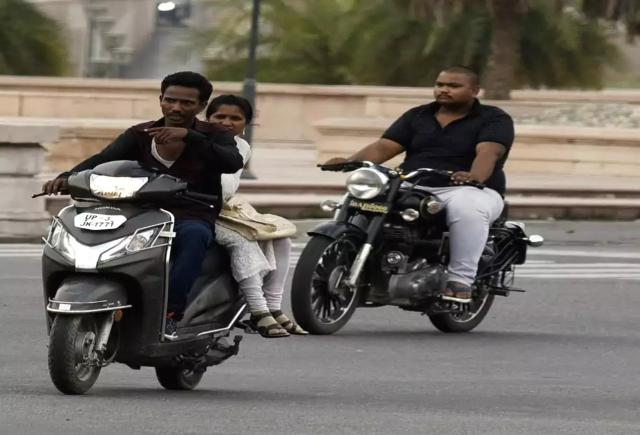licensePlate: (77, 206, 130, 237)
motorcycle: (33, 67, 305, 400), (299, 59, 541, 335)
withoutHelmet: (161, 72, 209, 123), (439, 67, 483, 104), (205, 98, 250, 132)
